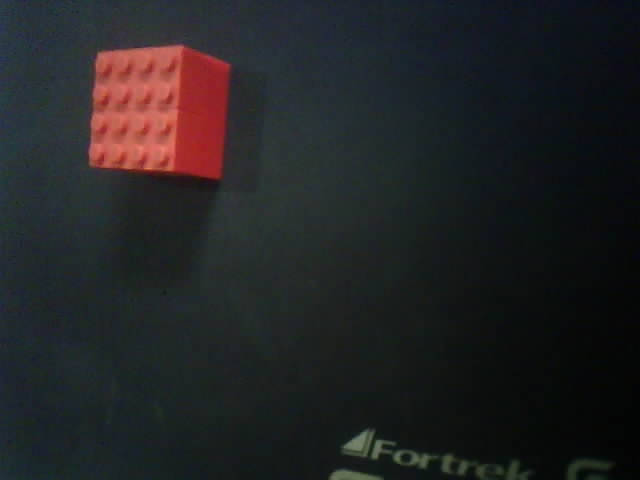lego: (86, 44, 233, 183)
